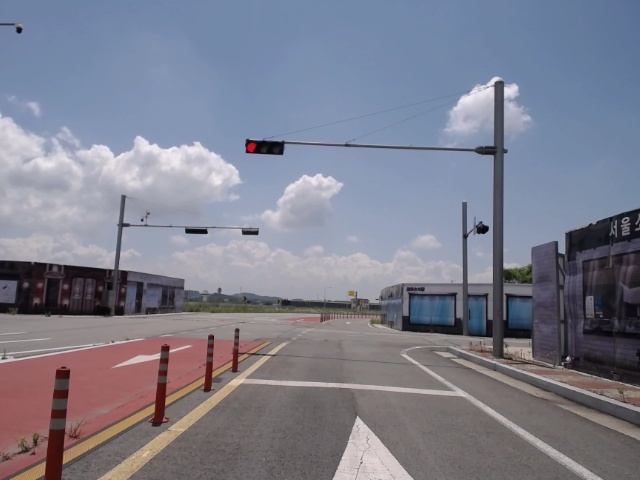red_3: (244, 139, 284, 156)
